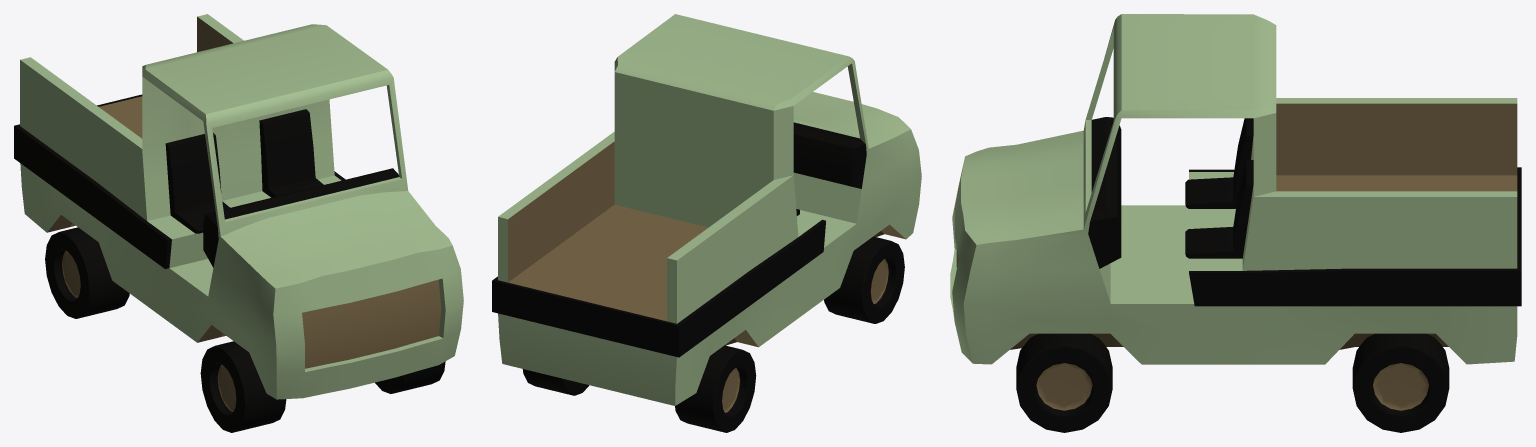
Rendered from Car-4.fbx.
3 renders of one model, left to right at view 1: azimuth 30°, elevation 25°; view 2: azimuth 150°, elevation 25°; view 3: azimuth 270°, elevation 25°, orthographic. The views are drawn at different scales.
Visible parts, largest first — view 1: Car, Tire; view 2: Car, Tire; view 3: Car, Tire.
Part boxes in pixels (x1,y1,x2,y2): Car: (14,14,463,399); Tire: (45,227,445,432); Car: (492,14,921,405); Tire: (522,236,904,432); Car: (950,14,1521,364); Tire: (1016,333,1449,432).
Size of the model in its own units: 324 by 453 by 737.
